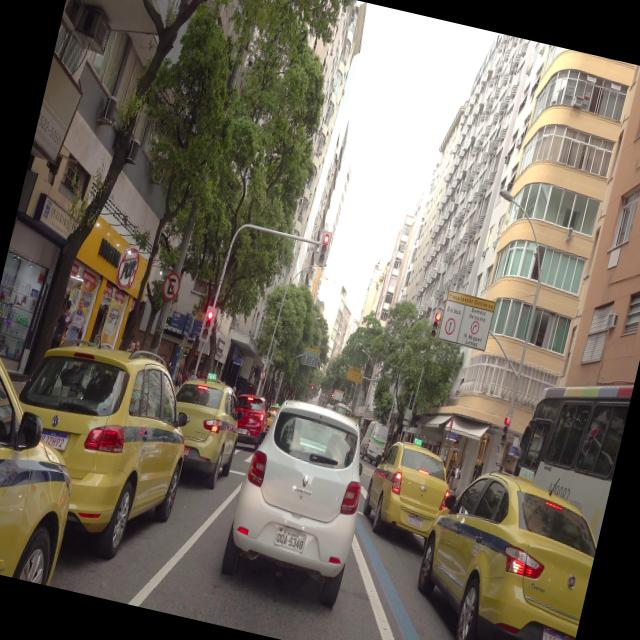License-plate: (274, 524, 308, 552), (537, 627, 576, 640), (405, 511, 424, 532)
